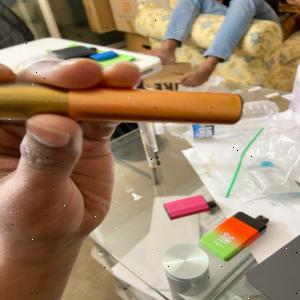Golden-E-Ciggirate: (0, 79, 252, 127)
